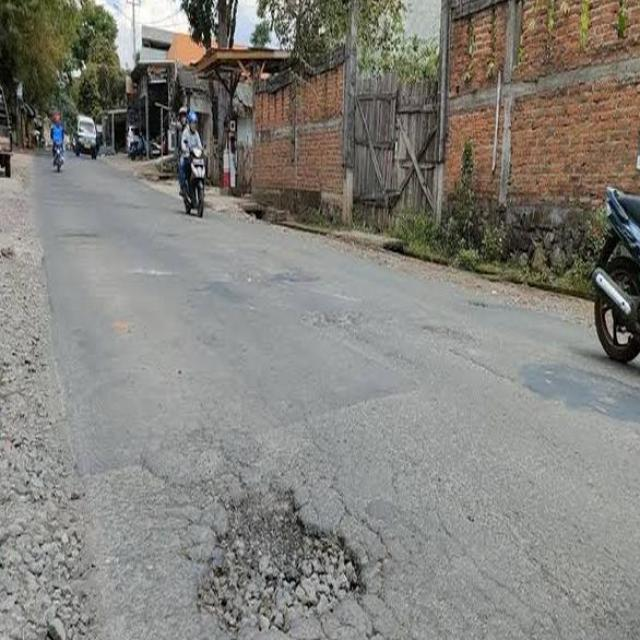Lubang: (201, 485, 368, 633)
